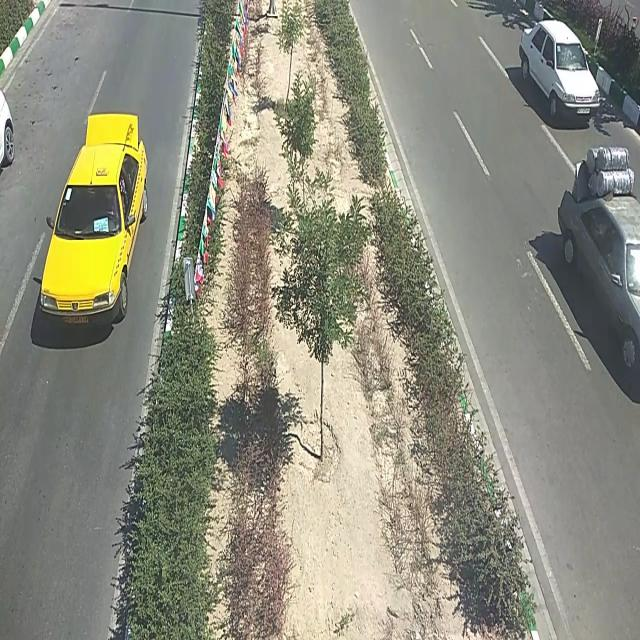car: (39, 111, 151, 332), (558, 151, 640, 381), (519, 17, 599, 120)
